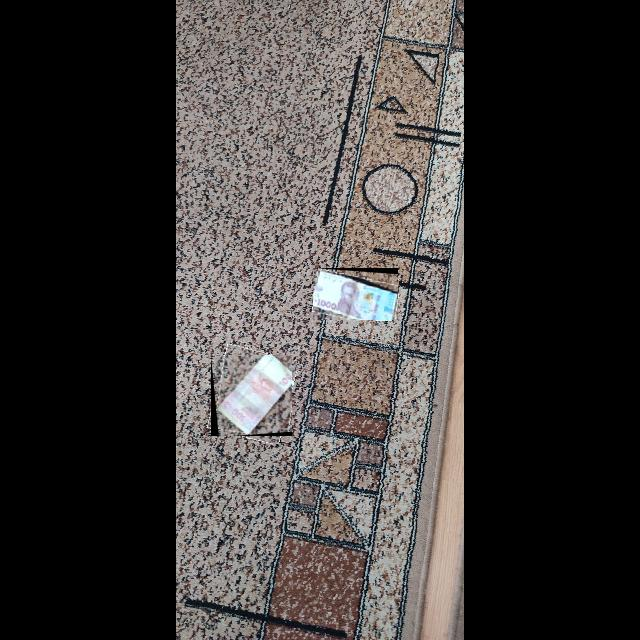1000uah: (313, 269, 399, 321)
100uah: (215, 355, 293, 435)
